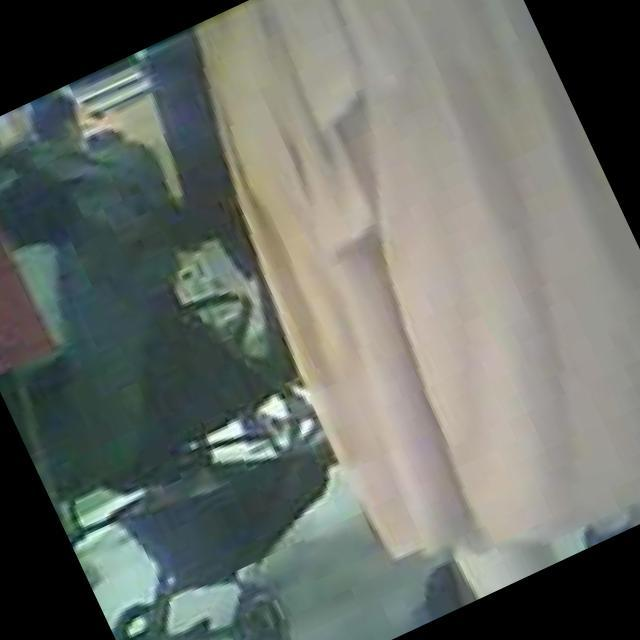person: (156, 0, 640, 620), (11, 78, 120, 186)
